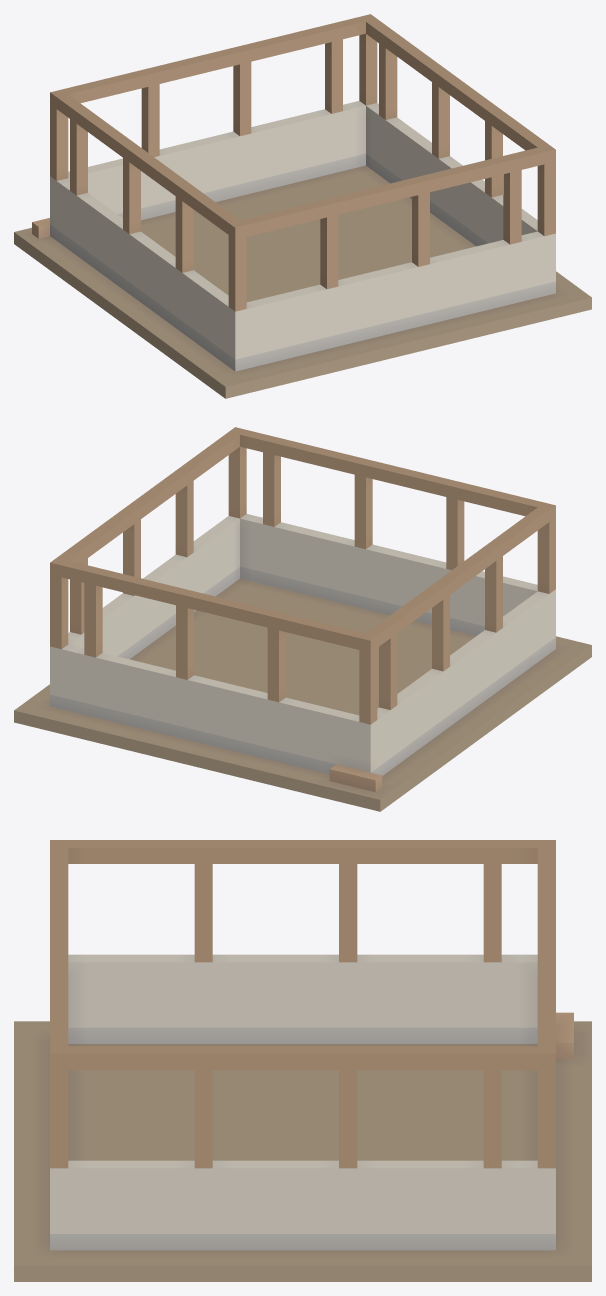
Rendered from life_stage_4.v1.glb.
3 views of the same model, one above another, from view 1: azimuth 30°, elevation 25°; view 2: azimuth 150°, elevation 25°; view 3: azimuth 270°, elevation 25° (orthographic). The views are drawn at different scales.
Parts seen in each view (by area): view 1: life_stage_4; view 2: life_stage_4; view 3: life_stage_4.
Part boxes in pixels (x1=…): life_stage_4: x1=14, y1=14, x2=591, y2=398; life_stage_4: x1=14, y1=427, x2=591, y2=811; life_stage_4: x1=14, y1=840, x2=591, y2=1281.
Bounding box in the file's own units: 4 × 1.62 × 4.
